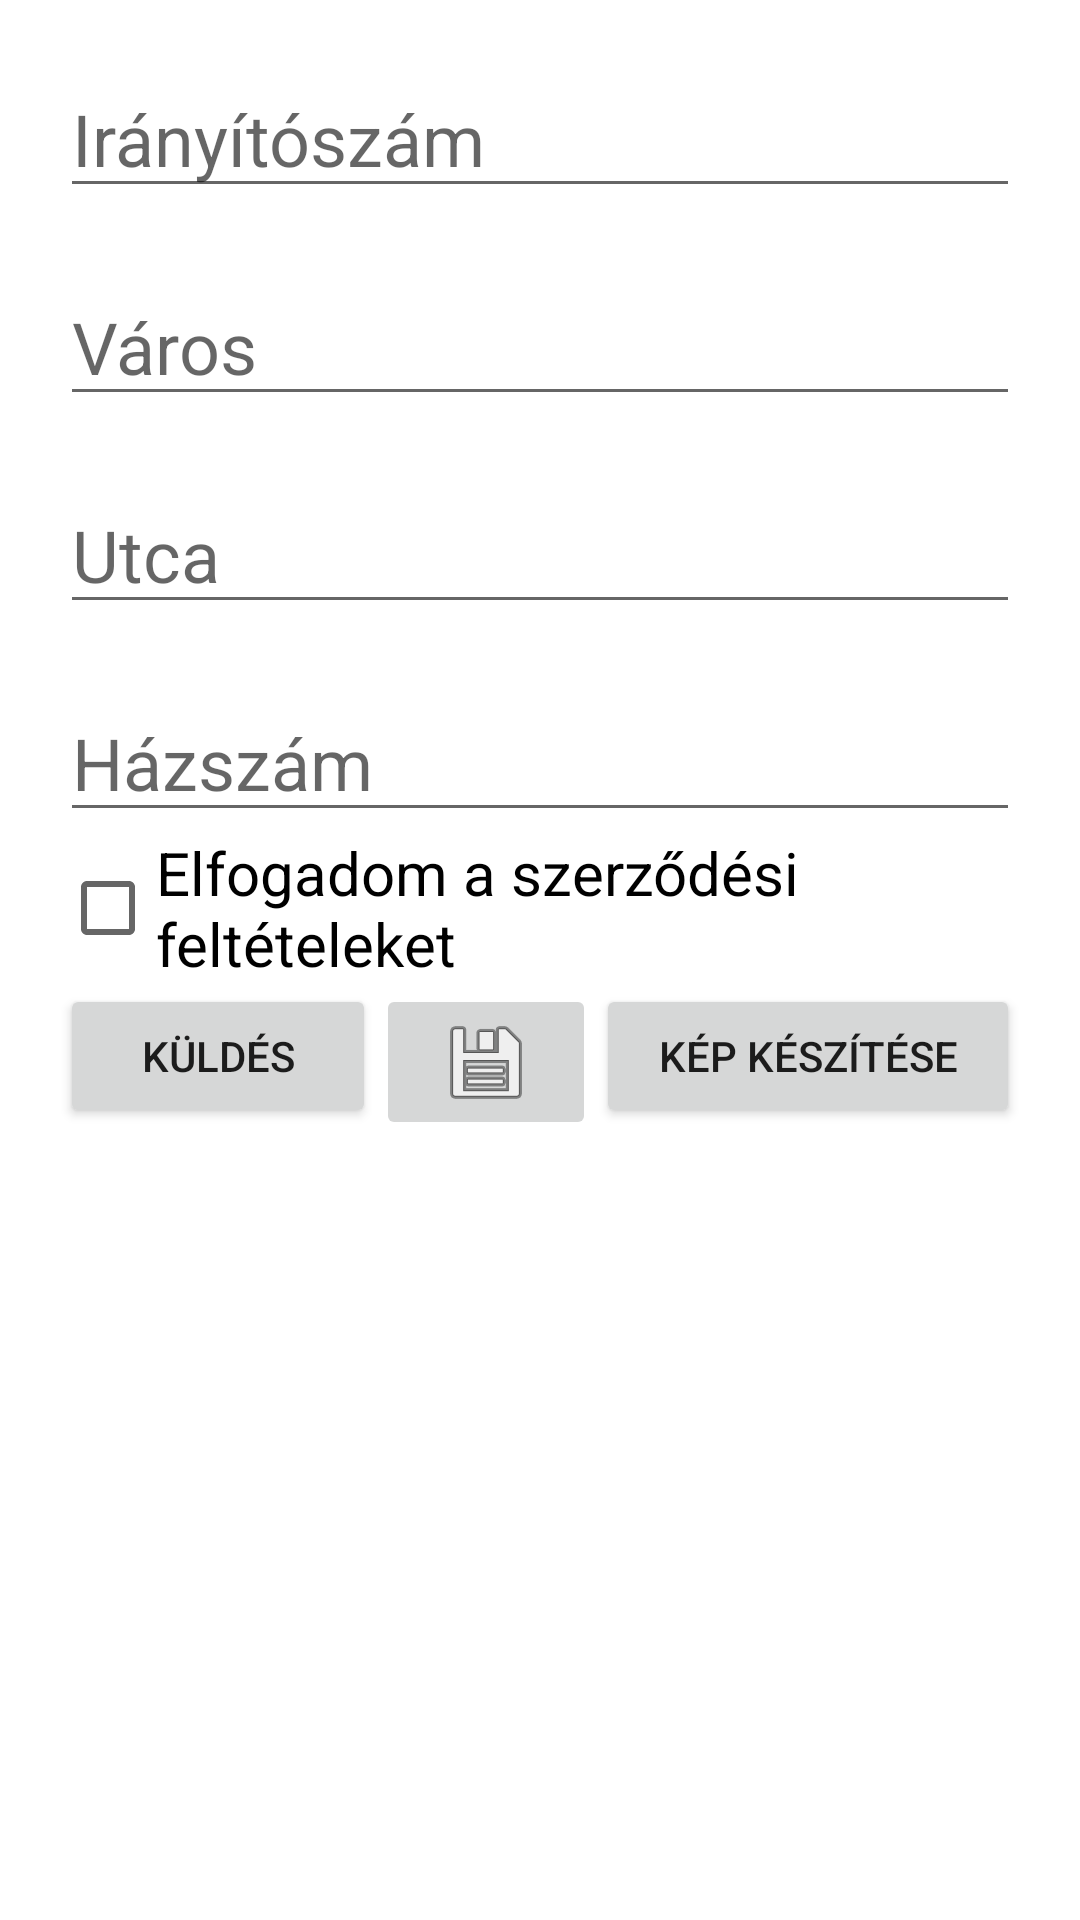

Icon click points for this 1080 × 1920 phone screenshot, format (x,y):
save: (486,1062)
